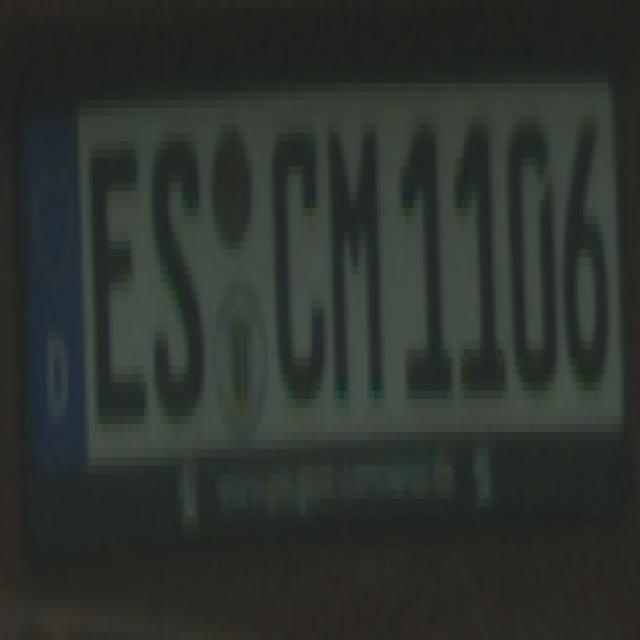Allemagne: (19, 98, 86, 469)
EU: (22, 63, 623, 471)
